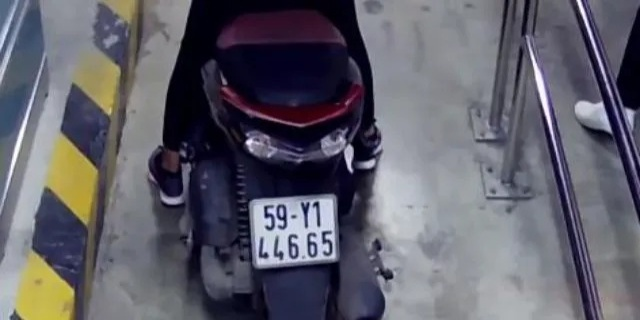bien_so: (247, 195, 343, 268)
